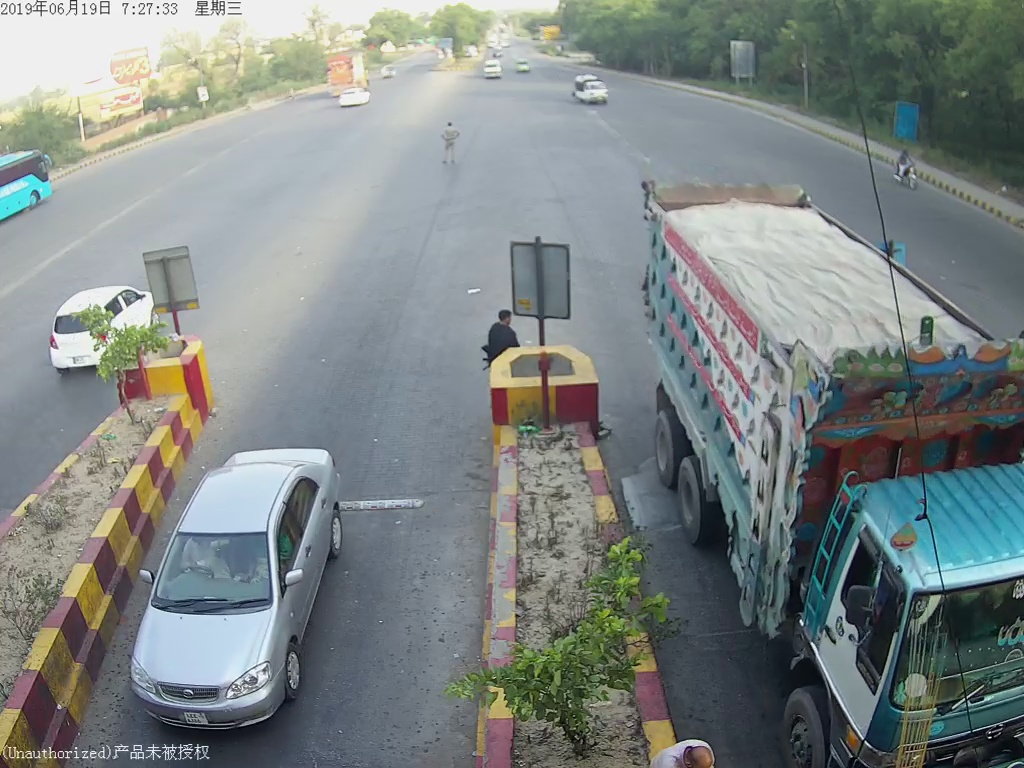Cat-1: (126, 450, 359, 731)
Cat-4: (691, 222, 1017, 738)
